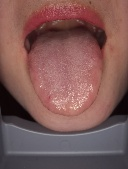tongue: (27, 39, 103, 117)
